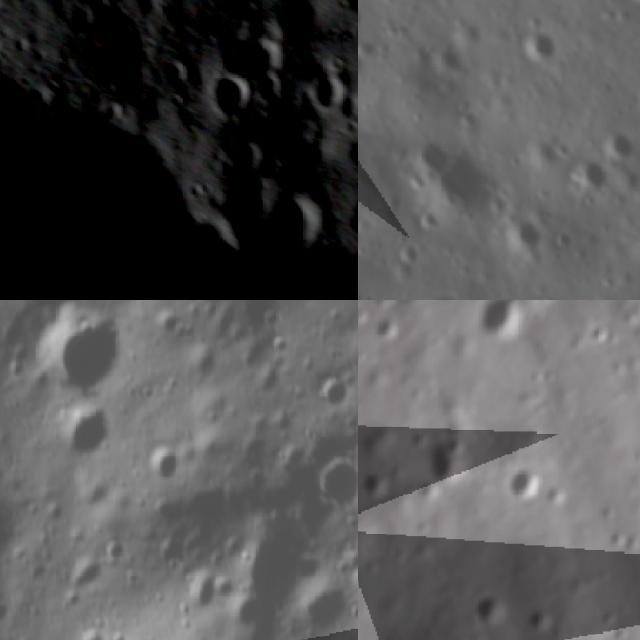crater: (408, 123, 528, 243), (30, 304, 119, 404), (492, 192, 571, 271), (299, 448, 358, 527), (512, 13, 580, 81), (416, 32, 484, 100), (53, 402, 116, 473), (556, 148, 622, 214), (288, 569, 348, 640), (227, 26, 290, 91), (264, 194, 327, 257), (422, 425, 478, 487), (131, 440, 183, 500), (498, 459, 553, 510), (589, 120, 640, 173), (202, 70, 254, 121), (273, 0, 329, 47), (463, 582, 514, 632), (212, 140, 264, 185), (469, 300, 518, 346), (176, 565, 218, 616), (63, 546, 103, 599), (306, 370, 348, 418), (358, 458, 396, 507), (306, 73, 348, 115), (157, 54, 194, 94), (406, 283, 491, 300), (607, 0, 640, 33), (72, 620, 106, 640)
